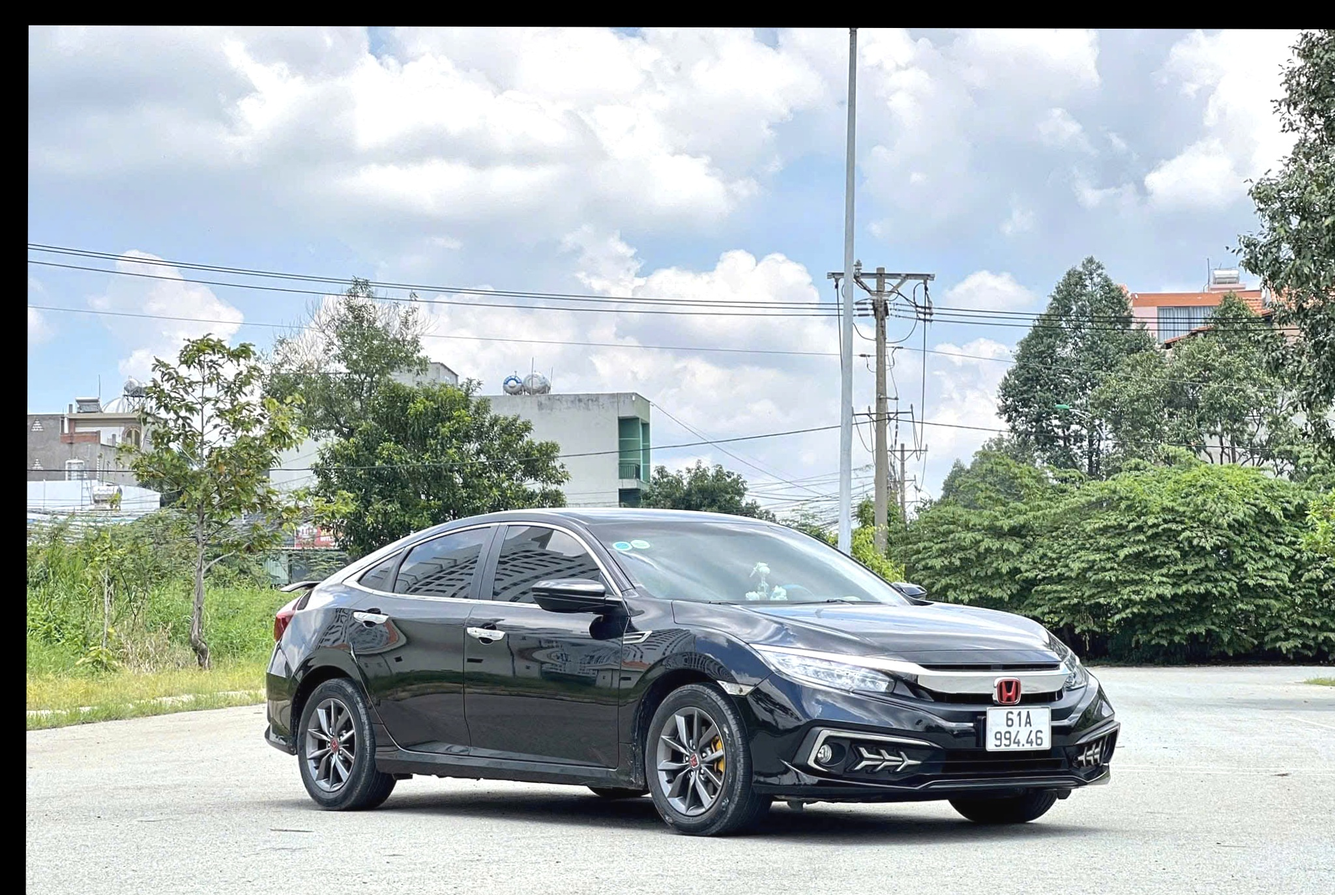Bien-so: (989, 706, 1050, 750)
